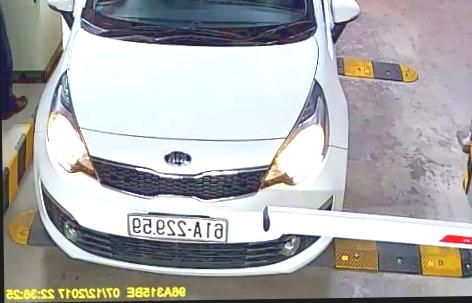License_Plate: (123, 213, 230, 242)
